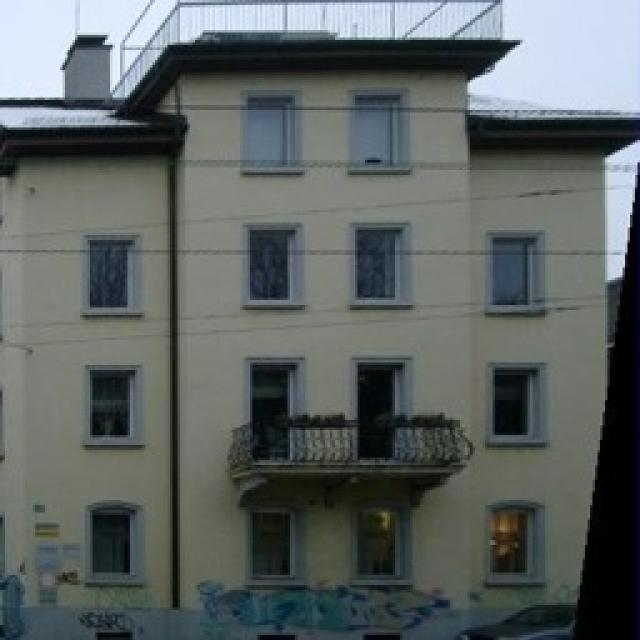building: (0, 30, 638, 640)
